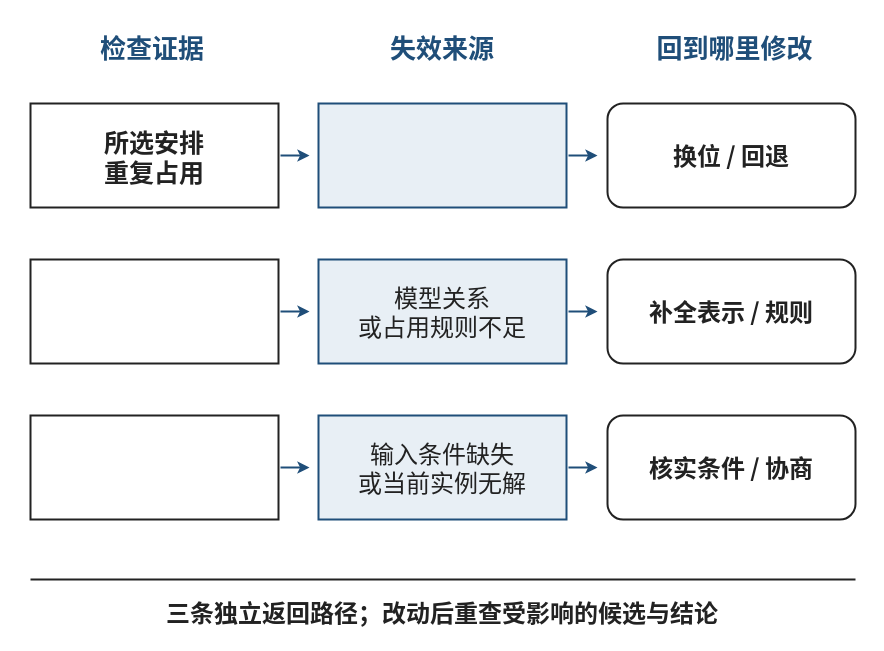
Image size: 884x651. Some labels were removed from this diagram. Here are the shapes that lost their labels. From the top down, the centre of each, then its label:
At (x=442, y=155): "本次选择 或程序状态".
At (x=154, y=311): "真实冲突 没有被表示".
At (x=154, y=467): "全部合法选择 已穷尽仍无解".
